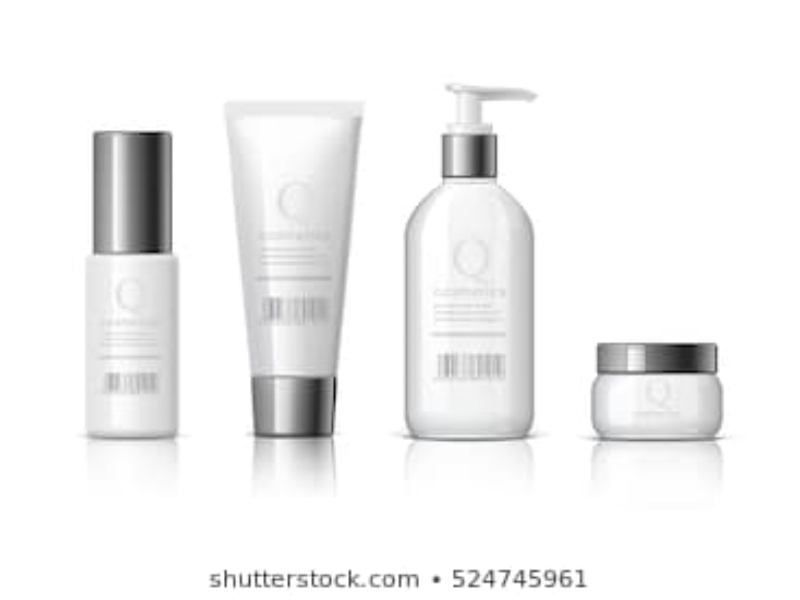plastic-container: (585, 338, 734, 443)
shampoo-bottle: (401, 77, 538, 444), (223, 96, 363, 442), (74, 126, 185, 439)
